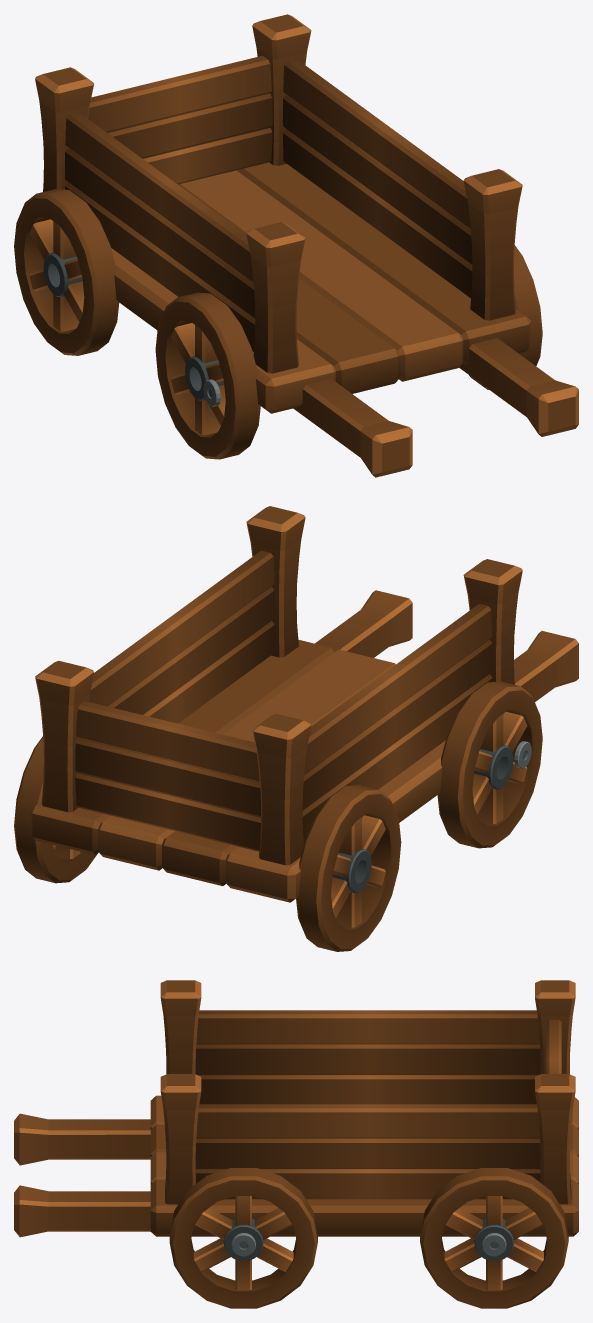
File: Cart-4.fbx
3 views of the same model, one above another, from view 1: azimuth 30°, elevation 25°; view 2: azimuth 150°, elevation 25°; view 3: azimuth 270°, elevation 25° (orthographic). The views are drawn at different scales.
Parts seen in each view (by area): view 1: Cart-4; view 2: Cart-4; view 3: Cart-4.
Part boxes in pixels (left/top/right/bottom): Cart-4: left=14, top=14, right=578, bottom=477; Cart-4: left=14, top=506, right=578, bottom=951; Cart-4: left=14, top=980, right=578, bottom=1308.
Size of the model in its own units: 259 by 186 by 453.
